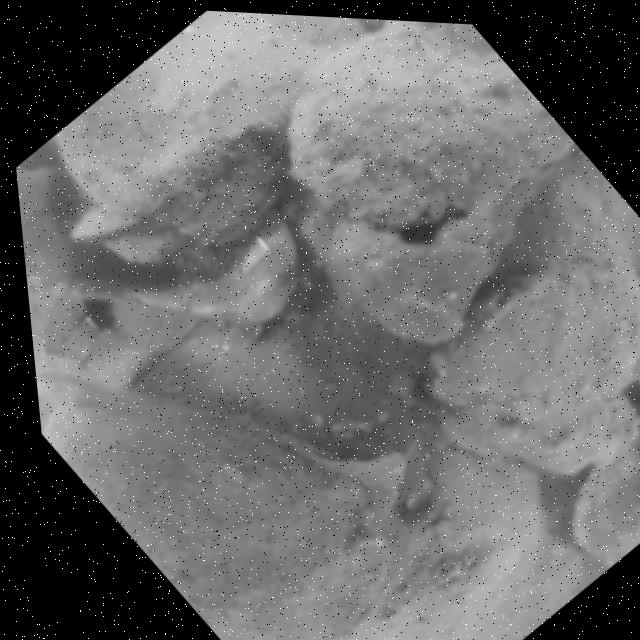Oyster-Closed: (37, 373, 397, 640)
Oyster-Indeterminate: (60, 14, 376, 250), (283, 31, 565, 235), (16, 169, 304, 325), (442, 253, 640, 471), (378, 450, 538, 621), (106, 138, 284, 277)
